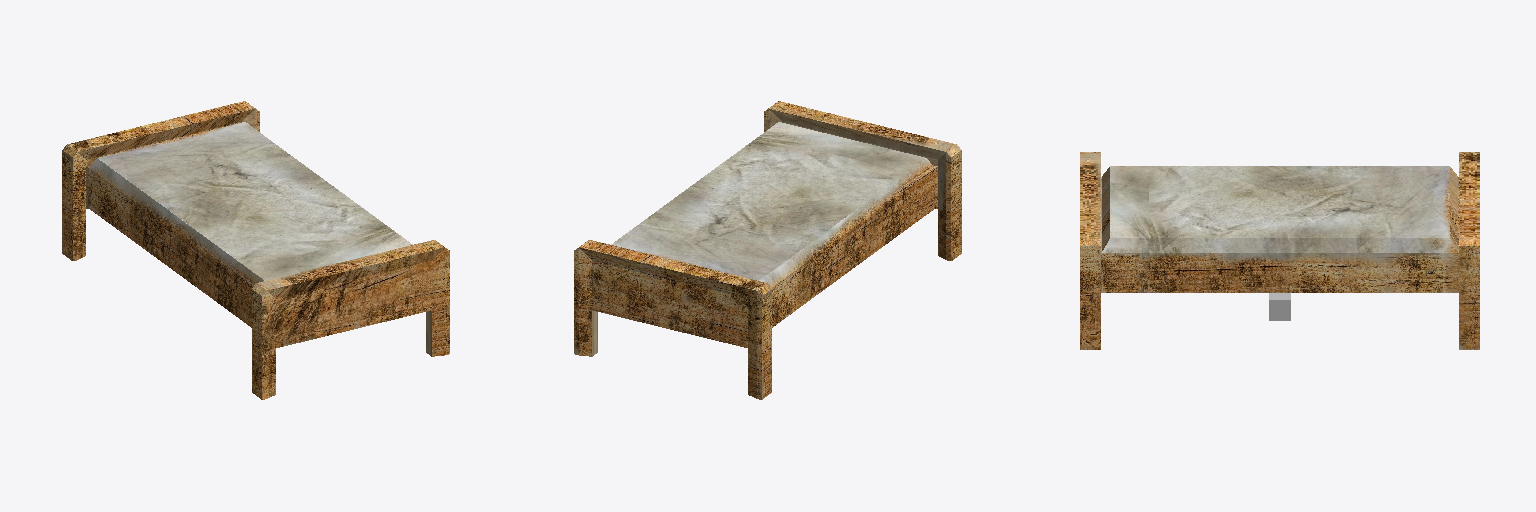
The picture shows the model from 3 angles: view 1: azimuth 30°, elevation 25°; view 2: azimuth 150°, elevation 25°; view 3: azimuth 270°, elevation 25°; orthographic projection.
Parts seen in each view (by area): view 1: Cube.001_Cube.002; view 2: Cube.001_Cube.002; view 3: Cube.001_Cube.002, cubeCenter_Cube.001.
Part boxes in pixels (bbox=[...]): Cube.001_Cube.002: bbox=[62, 101, 449, 399]; Cube.001_Cube.002: bbox=[574, 101, 961, 399]; Cube.001_Cube.002: bbox=[1080, 152, 1479, 349]; cubeCenter_Cube.001: bbox=[1269, 293, 1290, 320].
Size of the model in its own units: 3.77 by 2.31 by 6.97.
3 materials, 1 textured.